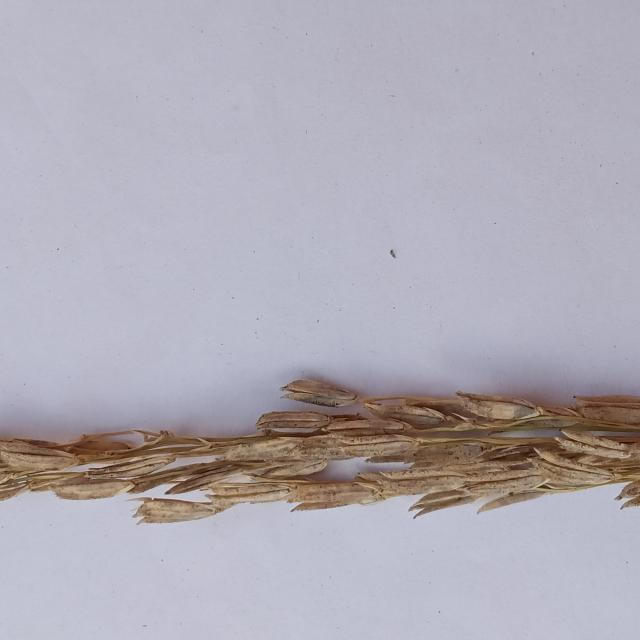Neck_Blast: (0, 375, 640, 521)
